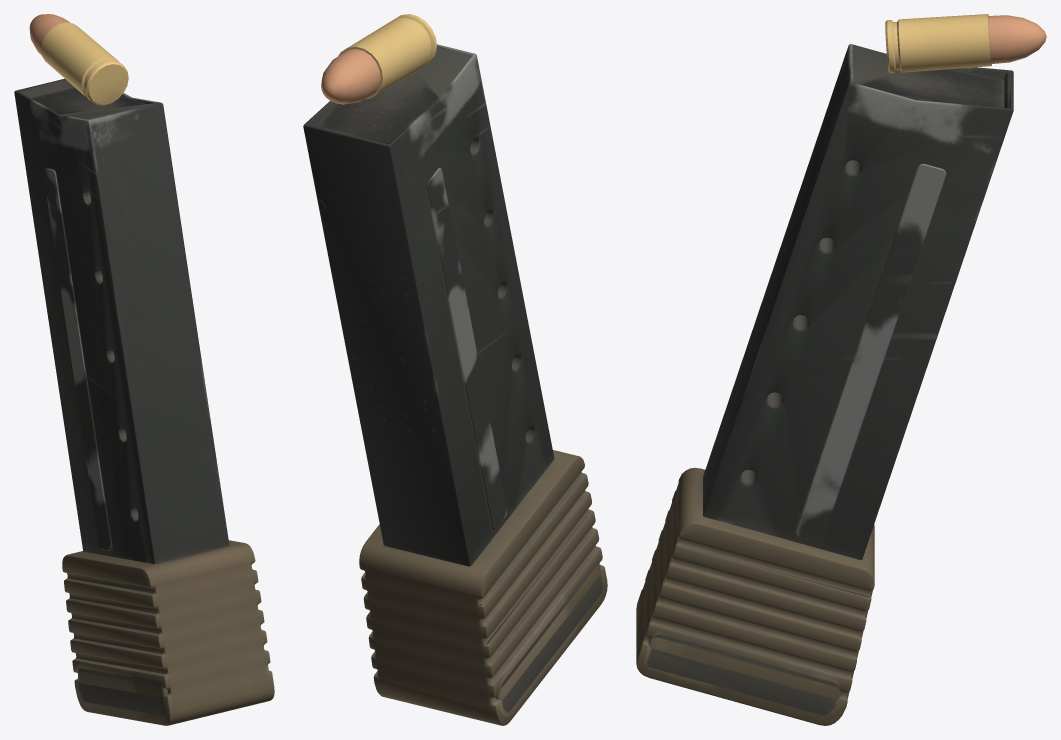
File: carregador_guardia_20.glb
3 renders of one model, left to right at view 1: azimuth 30°, elevation 25°; view 2: azimuth 150°, elevation 25°; view 3: azimuth 270°, elevation 25°, orthographic. The views are drawn at different scales.
Visible parts, largest first — view 1: carregador_guardia_20_carregador; view 2: carregador_guardia_20_carregador; view 3: carregador_guardia_20_carregador.
Part boxes in pixels (left/top/right/bottom): carregador_guardia_20_carregador: left=14, top=14, right=274, bottom=725; carregador_guardia_20_carregador: left=303, top=14, right=607, bottom=725; carregador_guardia_20_carregador: left=636, top=14, right=1046, bottom=725.
Size of the model in its own units: 0.0248 by 0.1391 by 0.0759.
Materials: 1 (1 with a texture image).
